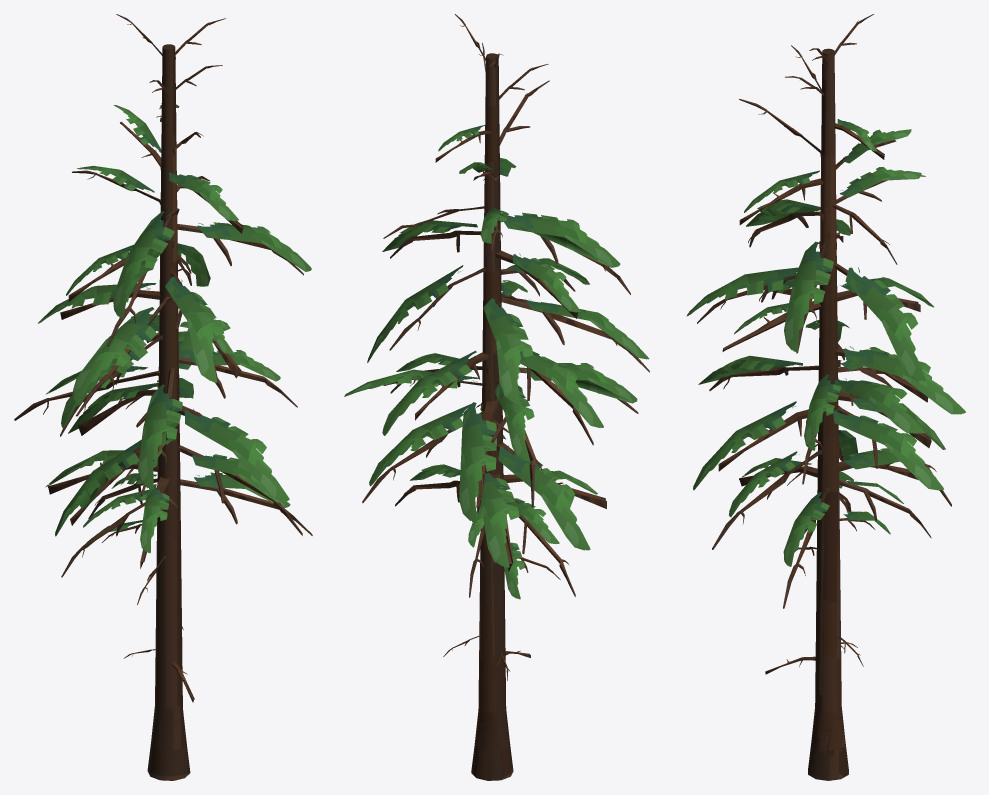
Rendered from tree_04.fbx.
3 views of the same model, side by side, from view 1: azimuth 30°, elevation 25°; view 2: azimuth 150°, elevation 25°; view 3: azimuth 270°, elevation 25° (orthographic).
Visible parts, largest first — view 1: leaves, trunk, bracnhes; view 2: leaves, trunk, bracnhes; view 3: leaves, trunk, bracnhes.
Part boxes in pixels (bbox=[...]): leaves: bbox=[38, 103, 311, 658]; trunk: bbox=[147, 44, 190, 780]; bracnhes: bbox=[14, 14, 312, 702]; leaves: bbox=[344, 125, 649, 680]; trunk: bbox=[471, 53, 513, 780]; bracnhes: bbox=[362, 14, 649, 657]; leaves: bbox=[686, 119, 965, 648]; trunk: bbox=[808, 48, 848, 780]; bracnhes: bbox=[697, 14, 951, 674].
Bounding box in the file's own units: 48.95 × 135 × 48.1.
